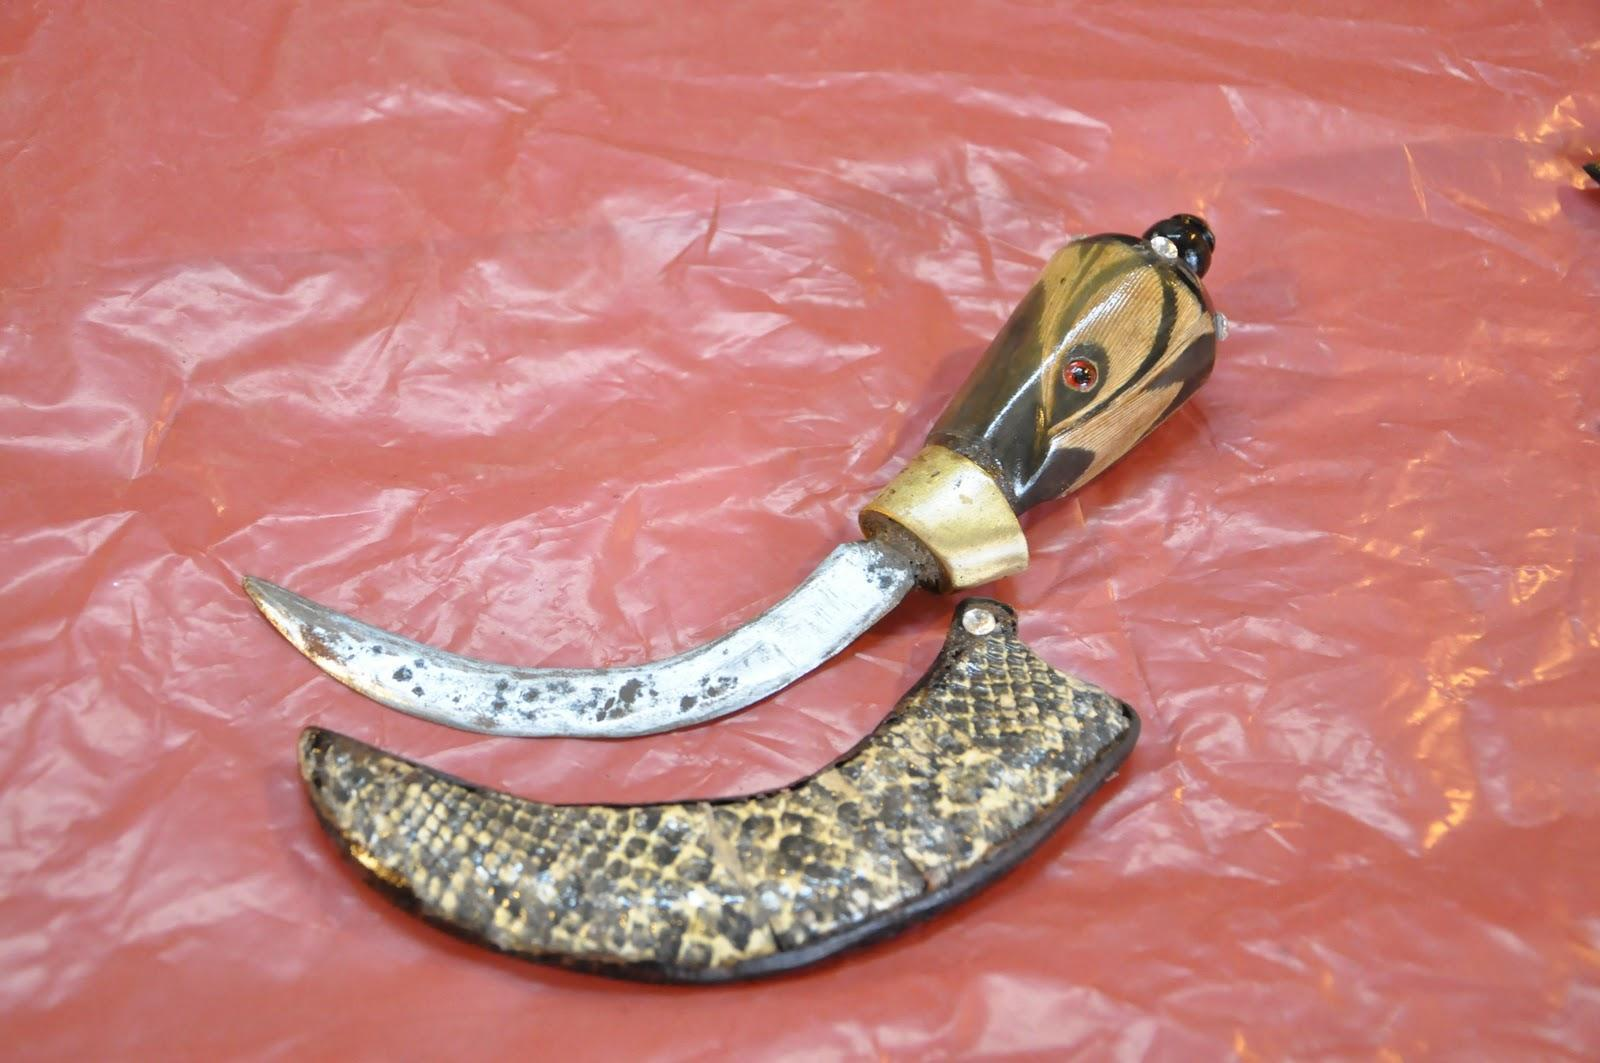faca: (244, 216, 1224, 737)
